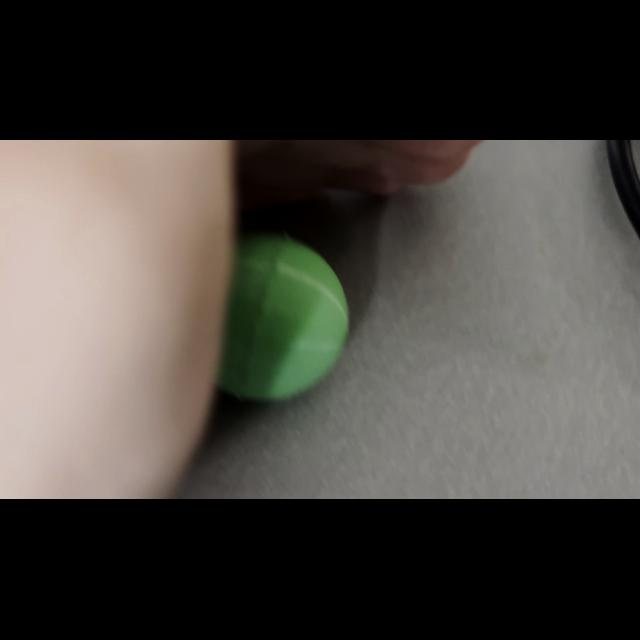objects: (219, 217, 351, 405)
